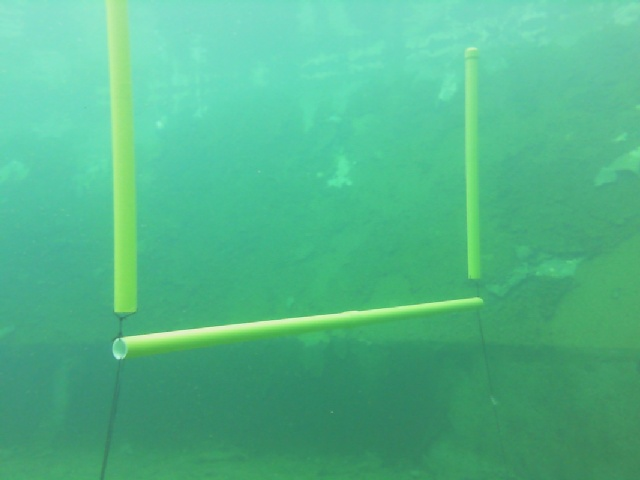channel: (82, 8, 499, 366)
